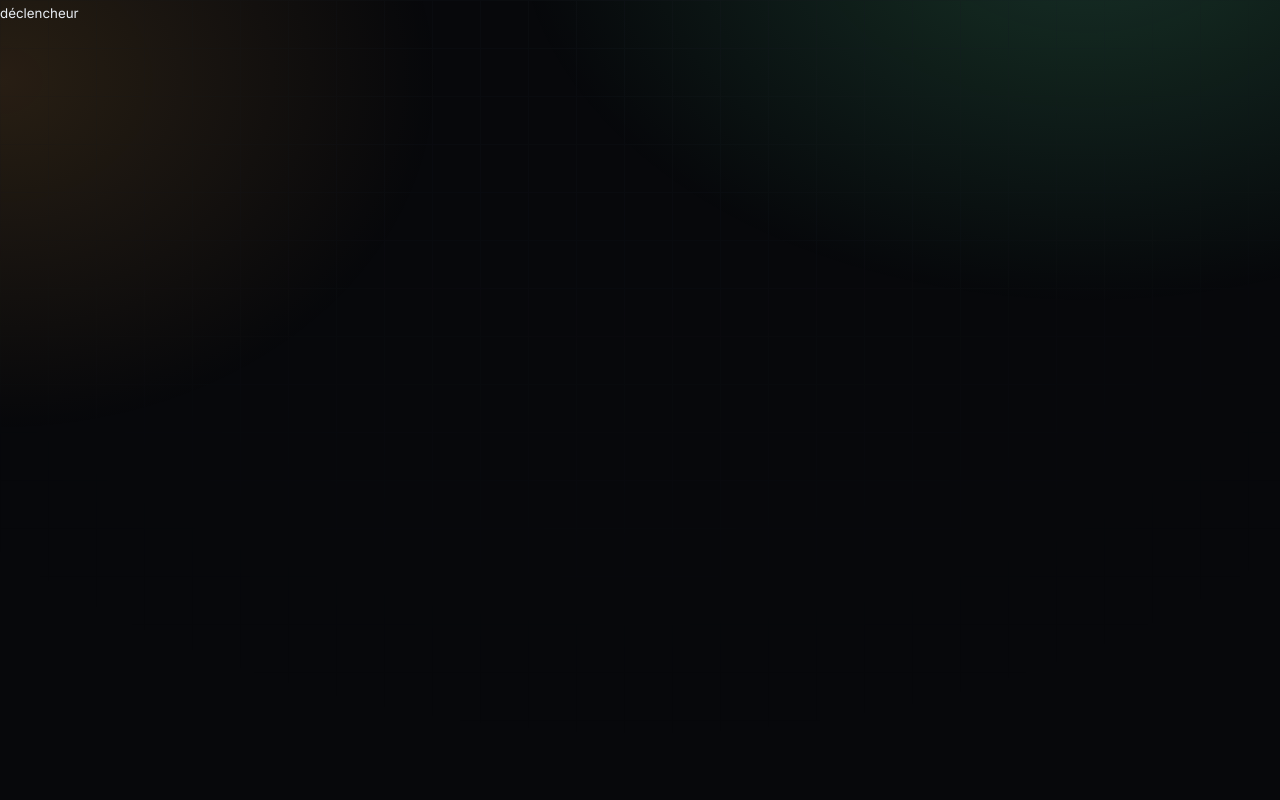
Test: CommandPalette › exécute la commande sélectionnée avec Entrée
Step 1. Type keys "{Control>}k{/Control}"
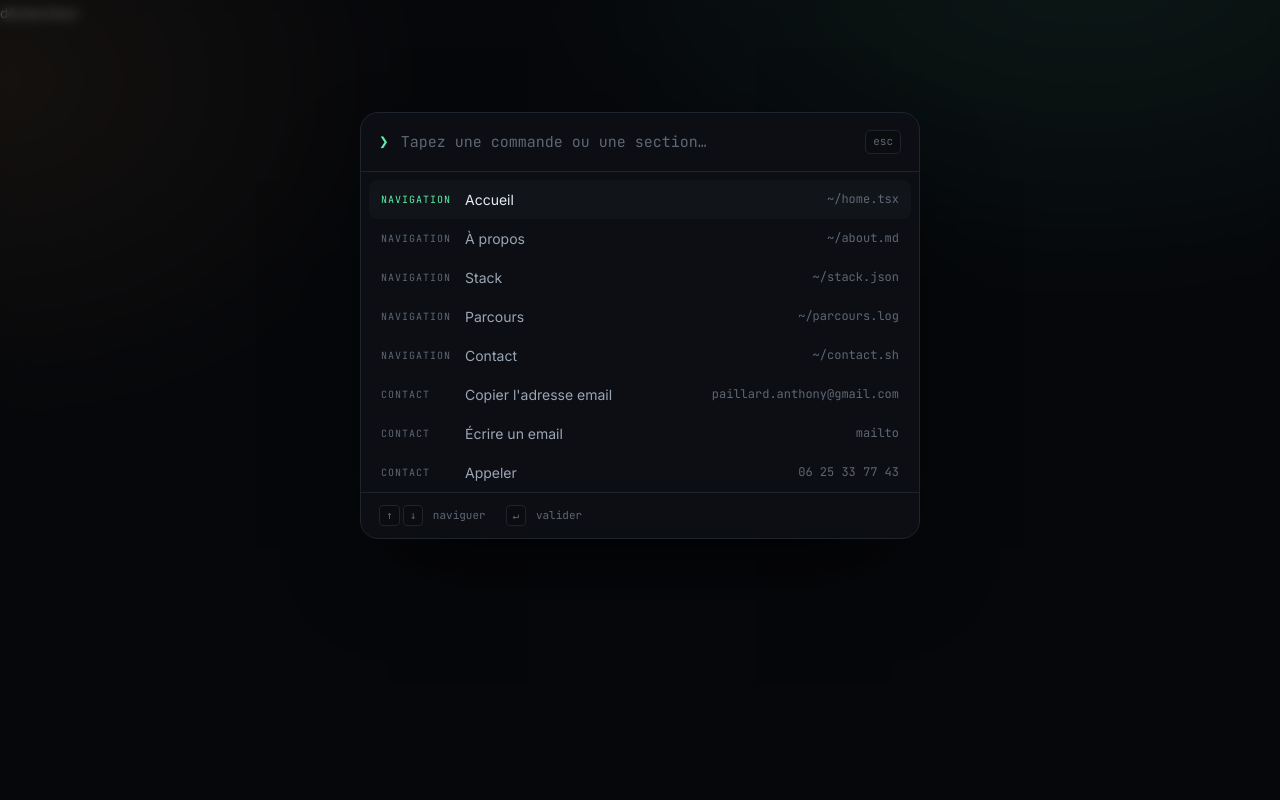
Step 2. Type "copier" into the field → [627, 142], box [401, 132, 853, 152]
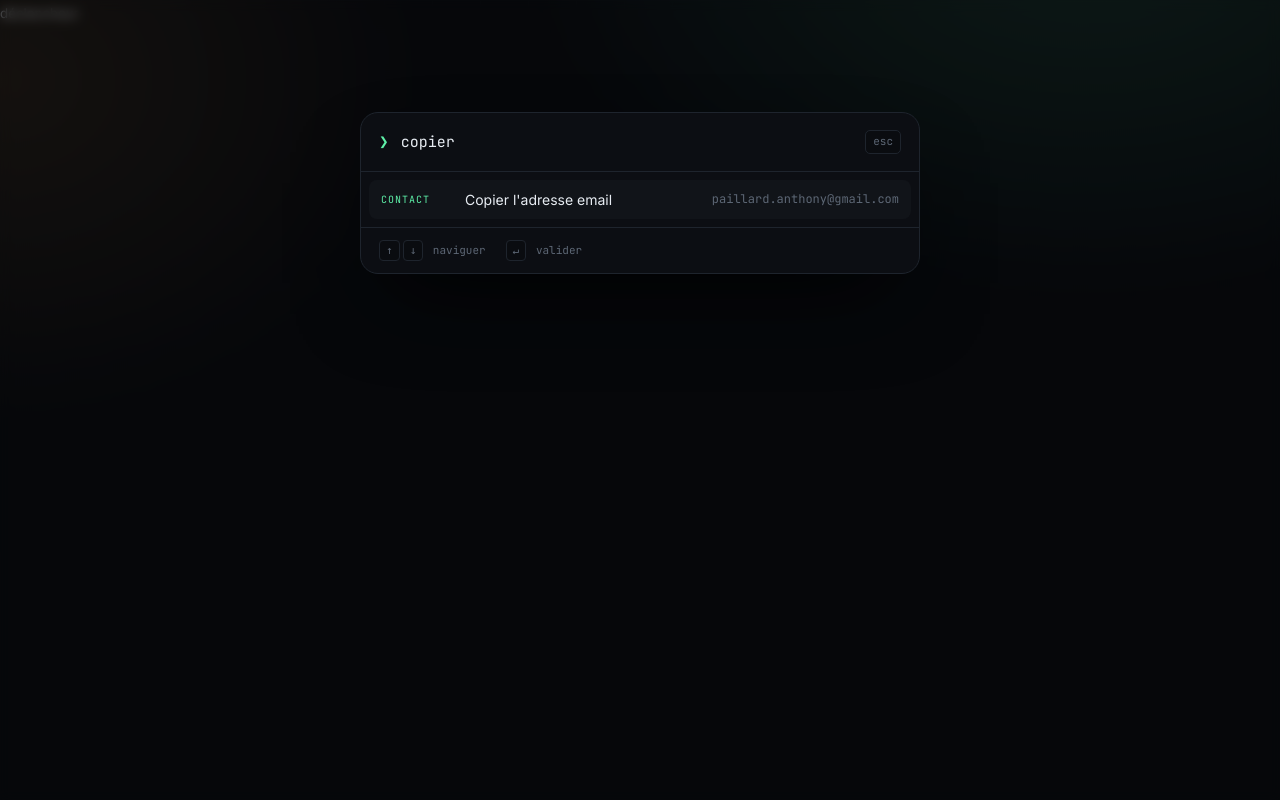
Step 3. Press Enter
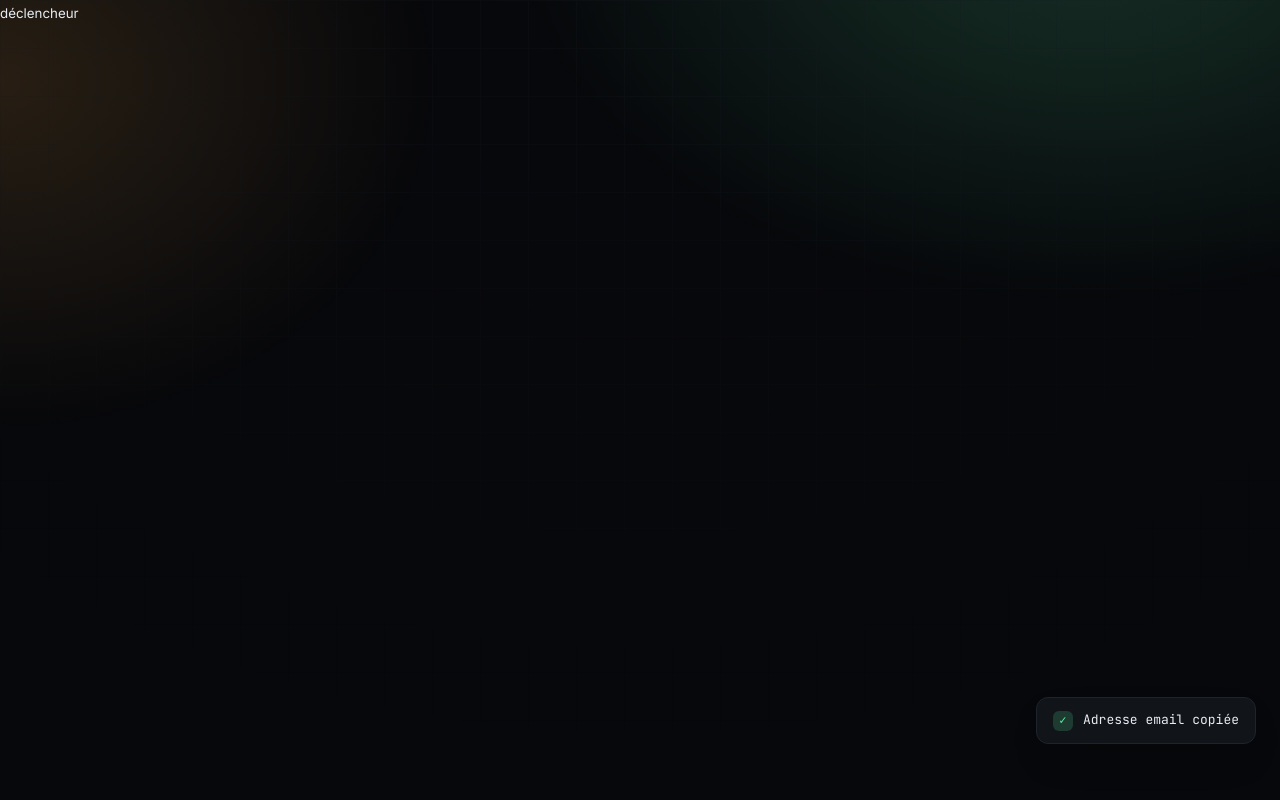
Check: the text "Adresse email copiée" is shown, box [1083, 710, 1239, 731]
